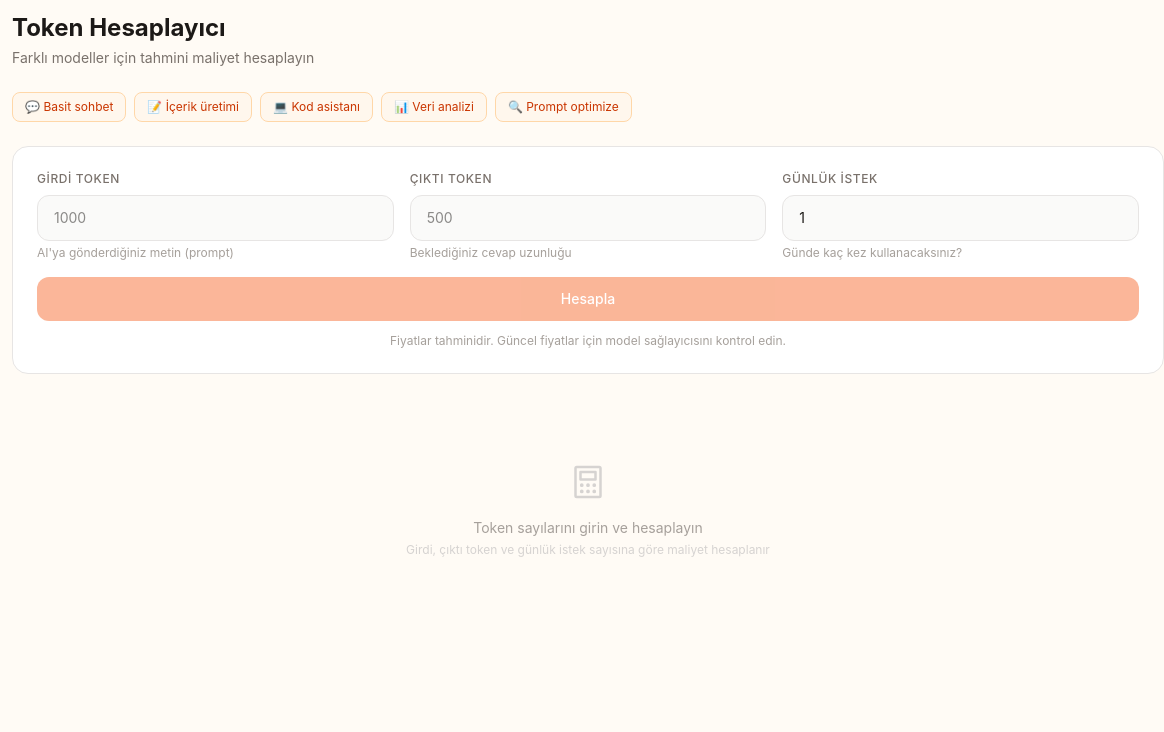
Test case: Calculator — Hesapla butonu › girdi inputu dolunca enabled olmalı
In the number field with placeholder "1000": {"x": 215, "y": 218} [37,195,394,241], type "500"
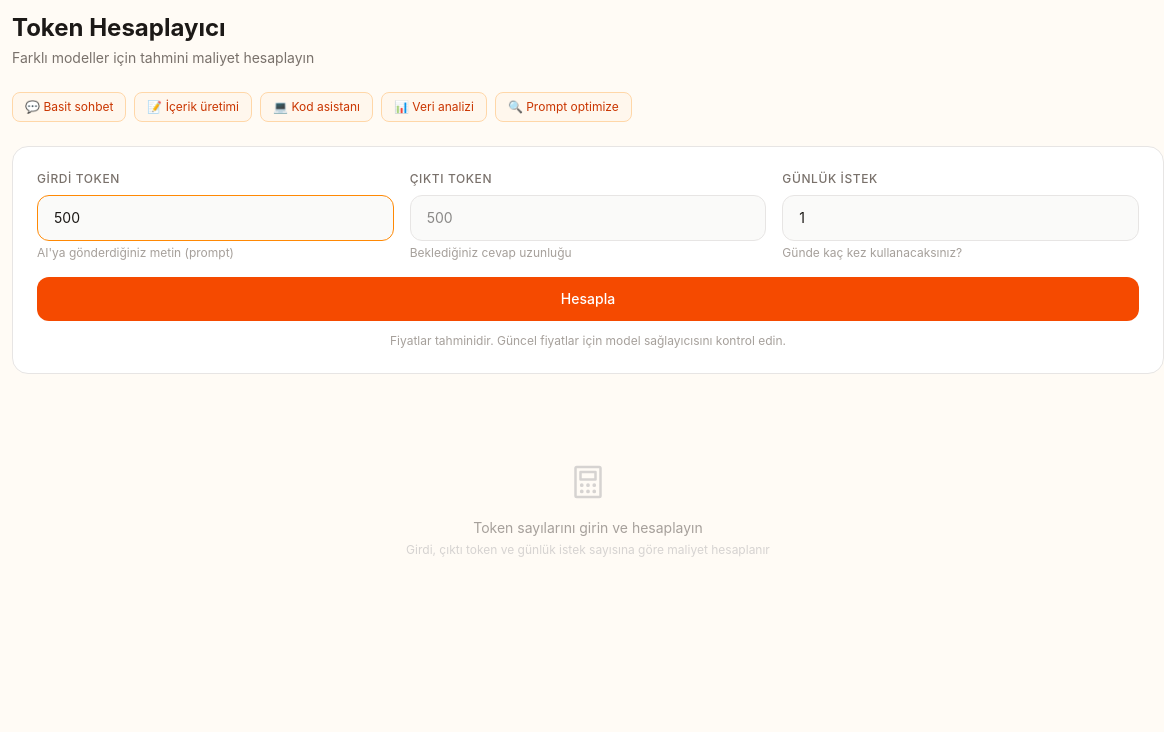
Now the button "Hesapla" is enabled, box [37,277,1139,321]
